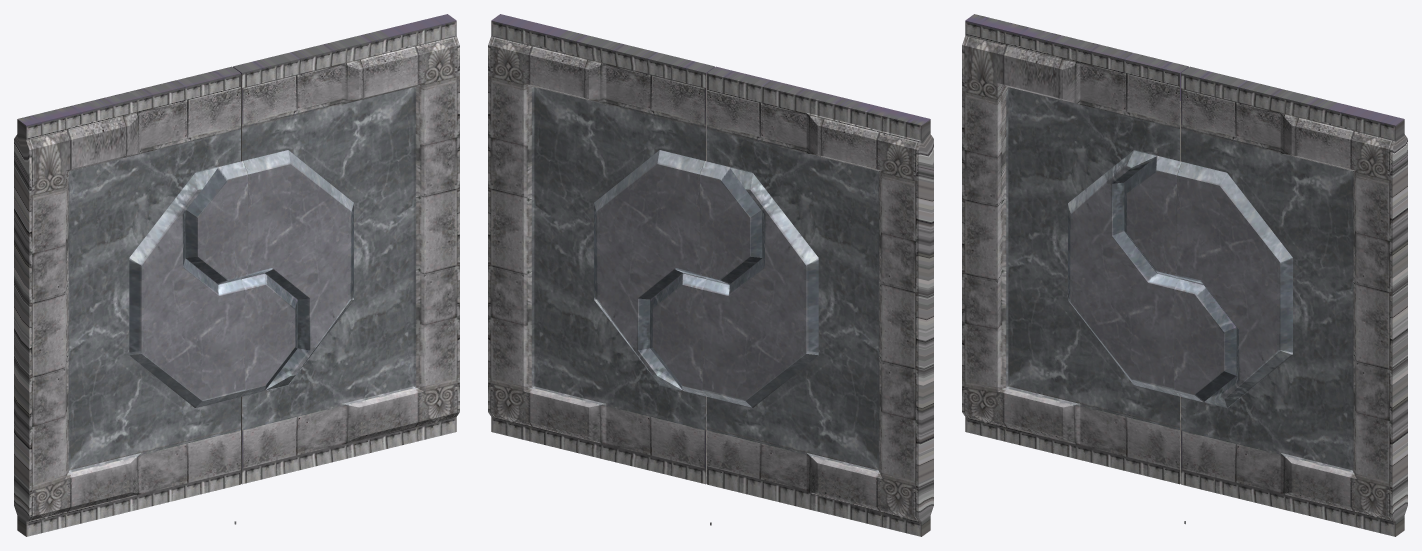
Rendered from b1-middledam-stonedoor_model.glb.
3 views of the same model, side by side, from view 1: azimuth 30°, elevation 25°; view 2: azimuth 150°, elevation 25°; view 3: azimuth 330°, elevation 25° (orthographic).
Parts seen in each view (by area): view 1: Object01, Box06, Object03, Object02; view 2: Object01, Box06, Object03, Object02; view 3: Box06, Object01, Object02, Object03.
Boxes of the visible parts, x1,y1,x2,y2 form: Object01: (14, 66, 240, 536); Box06: (233, 14, 459, 484); Object03: (129, 167, 297, 407); Object02: (185, 150, 353, 390); Object01: (707, 66, 933, 536); Box06: (488, 14, 714, 484); Object03: (650, 167, 818, 407); Object02: (594, 150, 762, 390); Box06: (1181, 66, 1407, 536); Object01: (962, 14, 1188, 484); Object02: (1124, 156, 1292, 407); Object03: (1068, 150, 1236, 402).
Bounding box in the file's own units: 8.86 × 8.94 × 0.6776.
1 material, 1 textured.
